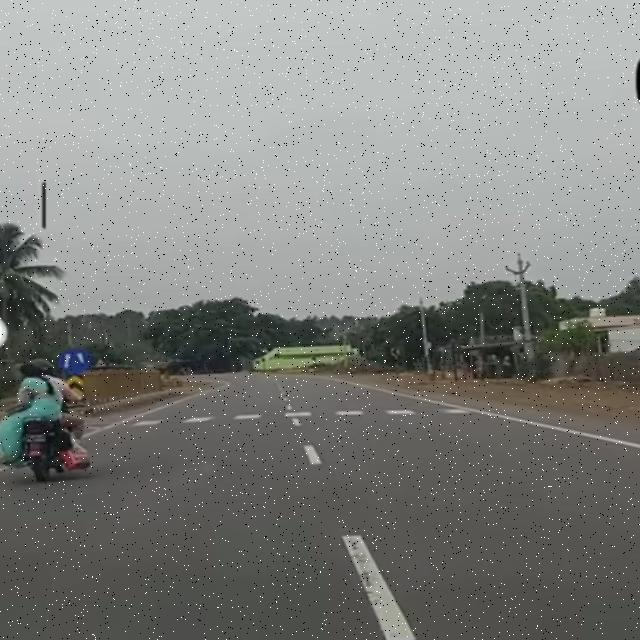vehicles_may_pass_either: (56, 345, 96, 375)
